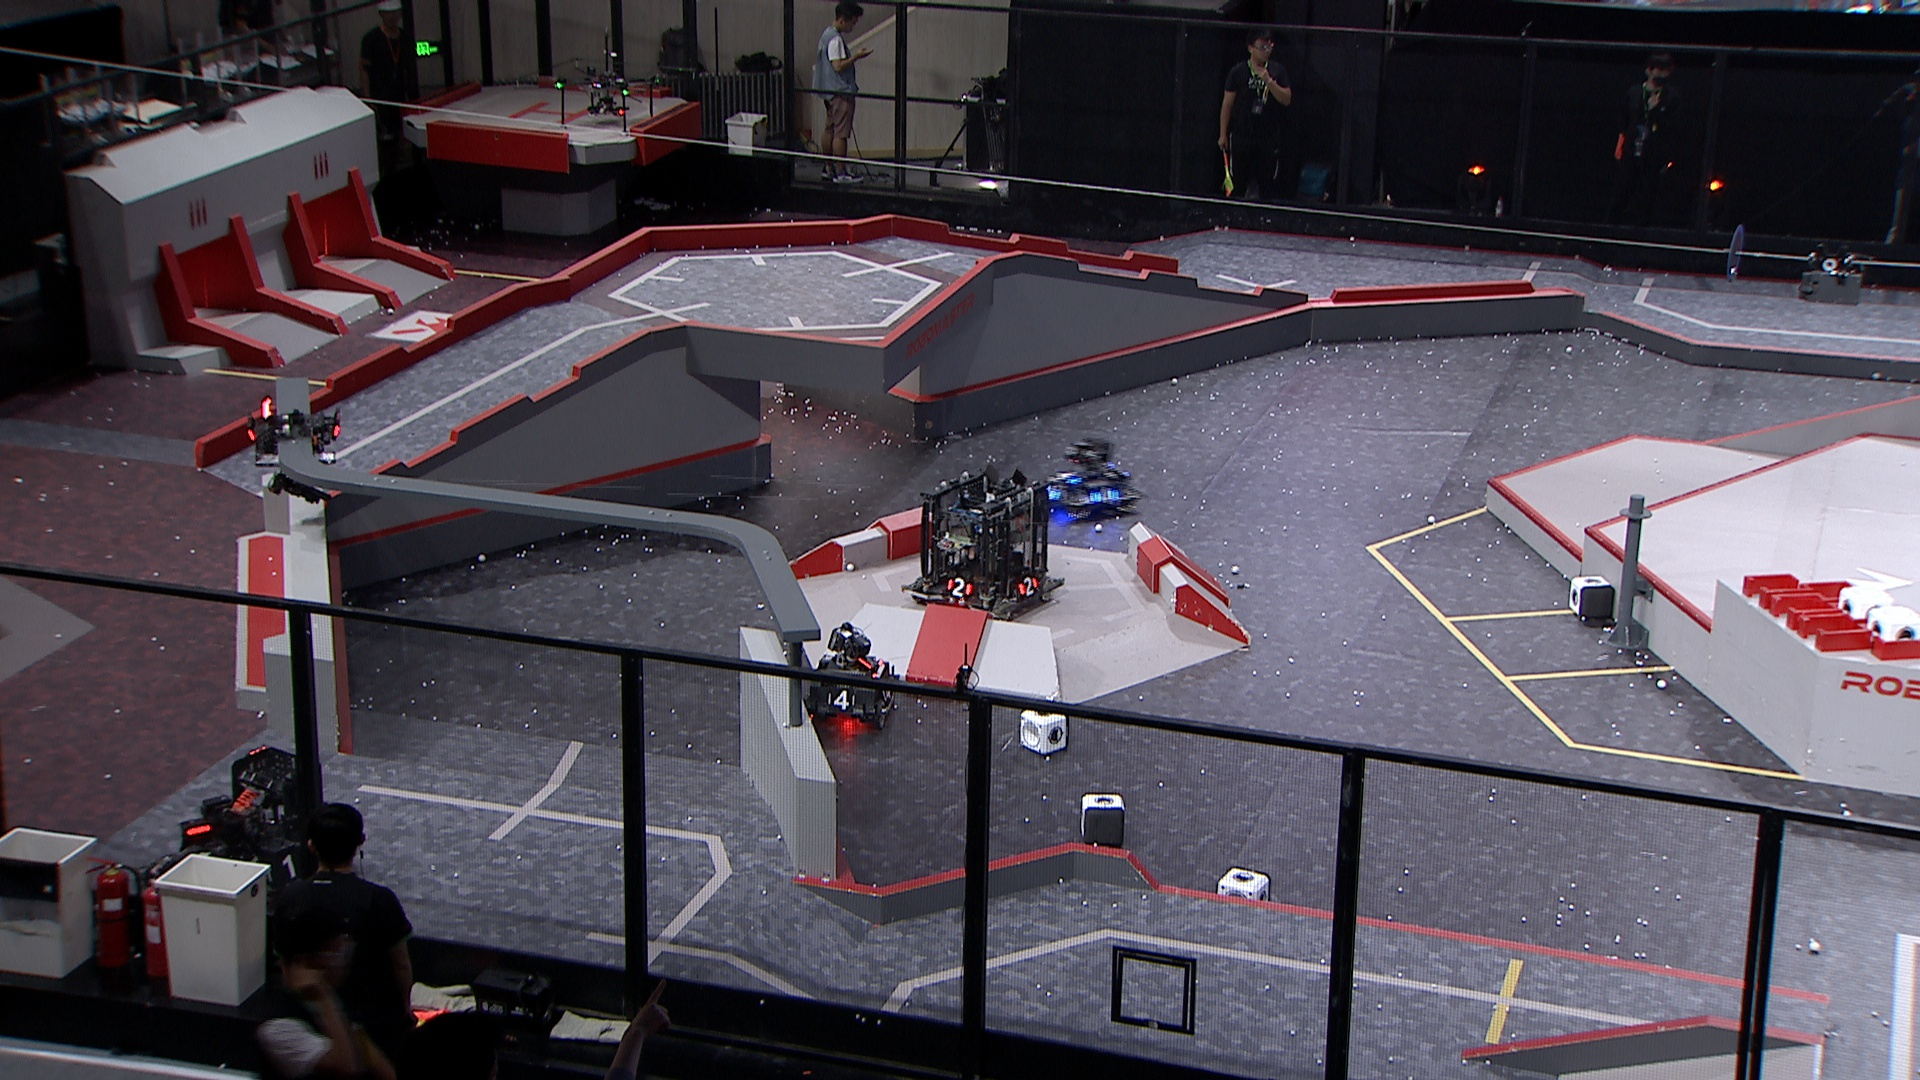armor: (264, 855, 302, 884), (823, 690, 858, 713), (1091, 487, 1122, 508), (1054, 467, 1087, 487), (948, 576, 975, 597), (1017, 575, 1040, 597), (1046, 481, 1062, 501)
car: (142, 746, 347, 913), (899, 465, 1064, 621), (799, 622, 897, 731), (1036, 433, 1143, 522)
watcher: (248, 396, 343, 506)
